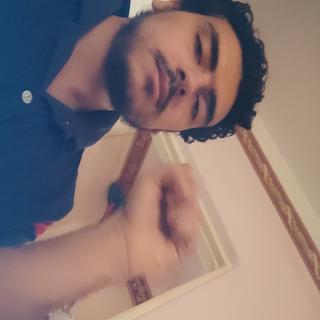SAD: (117, 156, 214, 267)
